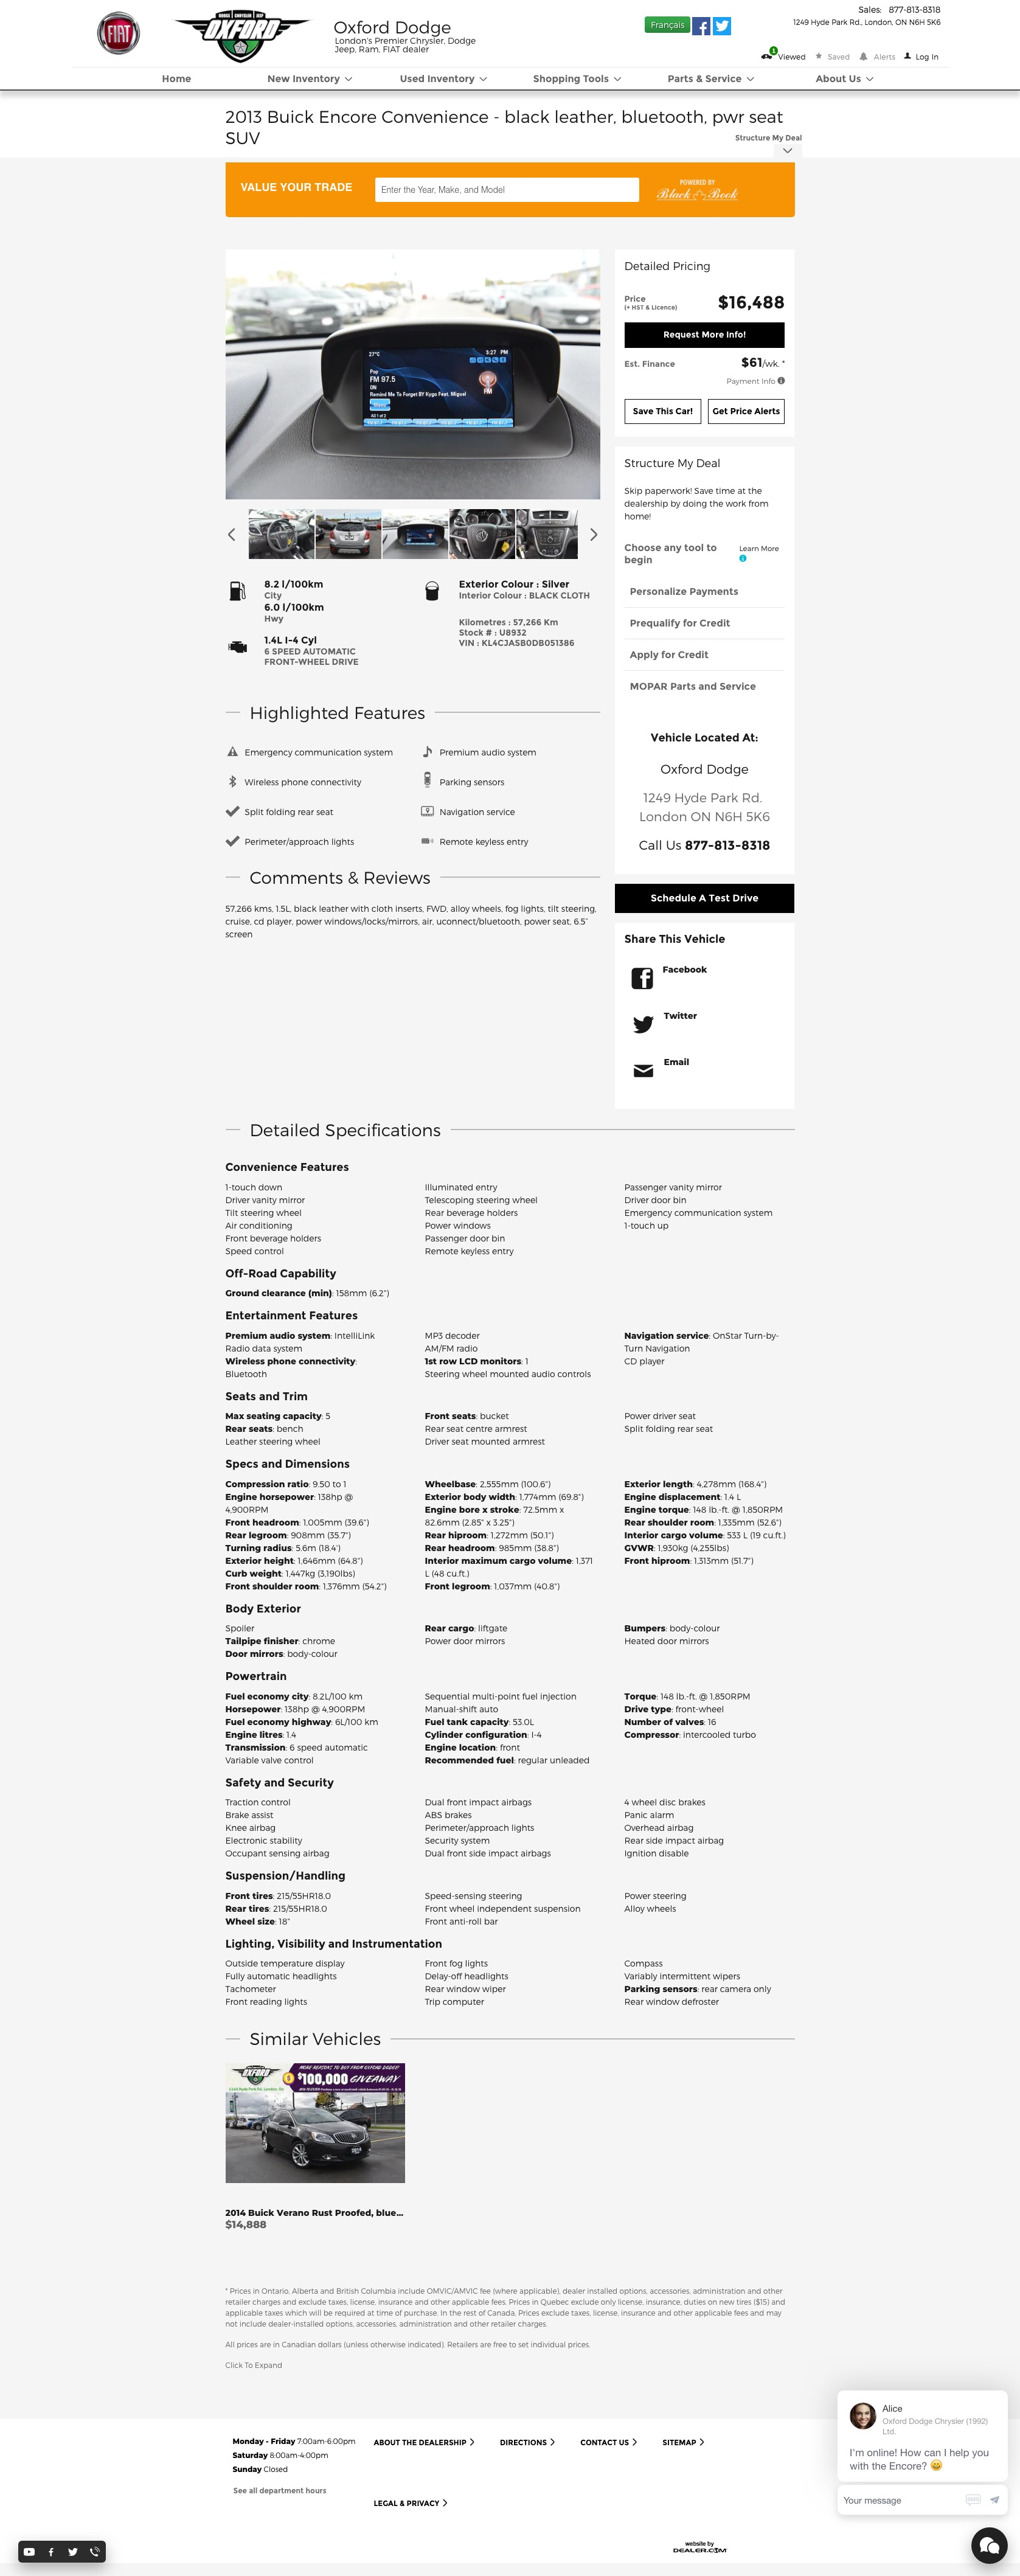car: (588, 527, 600, 544)
